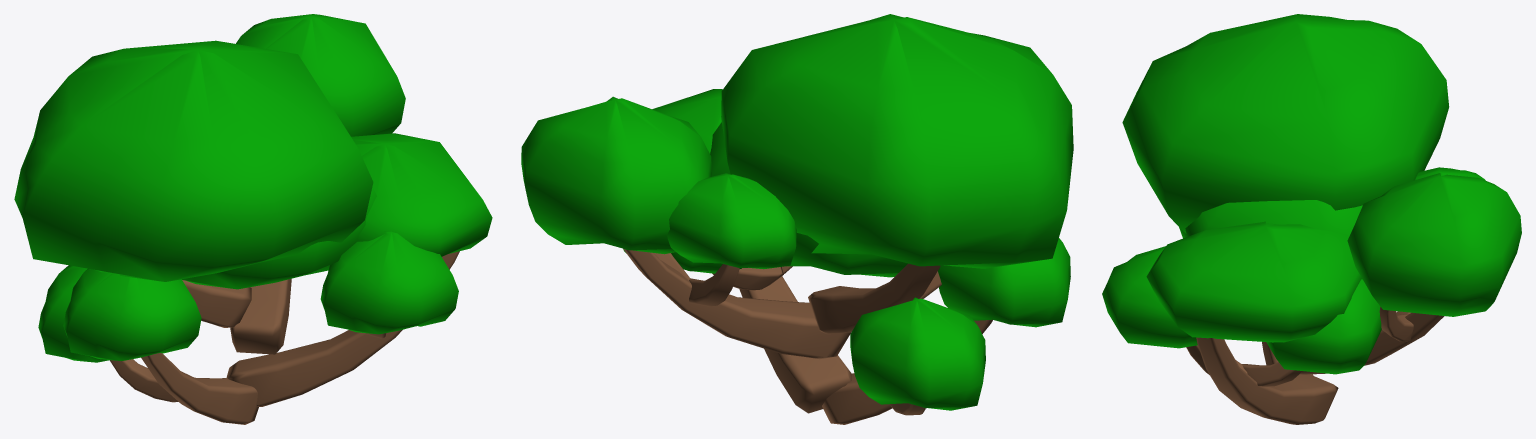
File: TOPtreecolored.fbx
The picture shows the model from 3 angles, left to right: view 1: azimuth 30°, elevation 25°; view 2: azimuth 150°, elevation 25°; view 3: azimuth 270°, elevation 25°; orthographic projection. The views are drawn at different scales.
Parts seen in each view (by area): view 1: pasted__pSphere1 (×4), pasted__pasted__pasted__pSphere1, pasted__pasted__pSphere1, pasted__pCube4 (×2), pasted__pasted__pCube4 (×2), pCube4, pasted__pasted__pasted__pasted__pSphere1; view 2: pasted__pSphere1 (×4), pasted__pasted__pasted__pasted__pSphere1, pasted__pasted__pSphere1, pCube4, pasted__pCube4 (×2), pasted__pasted__pCube4, pasted__pasted__pasted__pSphere1, pasted__pasted__pasted__pasted__pCube4, pasted__pasted__pasted__pasted__pasted__pCube4; view 3: pasted__pSphere1 (×3), pasted__pasted__pasted__pSphere1 (×2), pasted__pCube4, pasted__pasted__pSphere1 (×2), pasted__pasted__pasted__pasted__pasted__pCube4 (×2), pCube4.
Part boxes in pixels (x1,y1,x2,y2): pasted__pSphere1 (×4): (14, 14, 405, 361); pasted__pasted__pasted__pSphere1: (351, 133, 492, 256); pasted__pasted__pSphere1: (320, 231, 458, 334); pasted__pCube4 (×2): (141, 251, 459, 424); pasted__pasted__pCube4 (×2): (110, 280, 251, 402); pCube4: (230, 278, 291, 354); pasted__pasted__pasted__pasted__pSphere1: (38, 265, 109, 362); pasted__pSphere1 (×4): (521, 14, 1073, 327); pasted__pasted__pasted__pasted__pSphere1: (850, 297, 985, 410); pasted__pasted__pSphere1: (667, 173, 796, 269); pCube4: (623, 248, 850, 359); pasted__pCube4 (×2): (739, 276, 992, 424); pasted__pasted__pCube4: (808, 263, 940, 334); pasted__pasted__pasted__pSphere1: (652, 89, 722, 153); pasted__pasted__pasted__pasted__pCube4: (689, 264, 739, 306); pasted__pasted__pasted__pasted__pasted__pCube4: (712, 267, 783, 290); pasted__pSphere1 (×3): (1122, 14, 1521, 316); pasted__pasted__pasted__pSphere1 (×2): (1146, 221, 1381, 374); pasted__pCube4: (1196, 337, 1338, 424); pasted__pasted__pSphere1 (×2): (1102, 167, 1485, 348); pasted__pasted__pasted__pasted__pasted__pCube4 (×2): (1242, 306, 1413, 386); pCube4: (1299, 312, 1444, 374).
Bounding box in the file's own units: 39.73 × 33.5 × 34.07.
